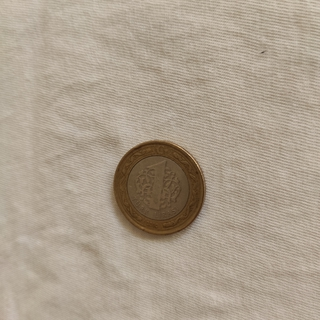1TL: (111, 137, 207, 236)
